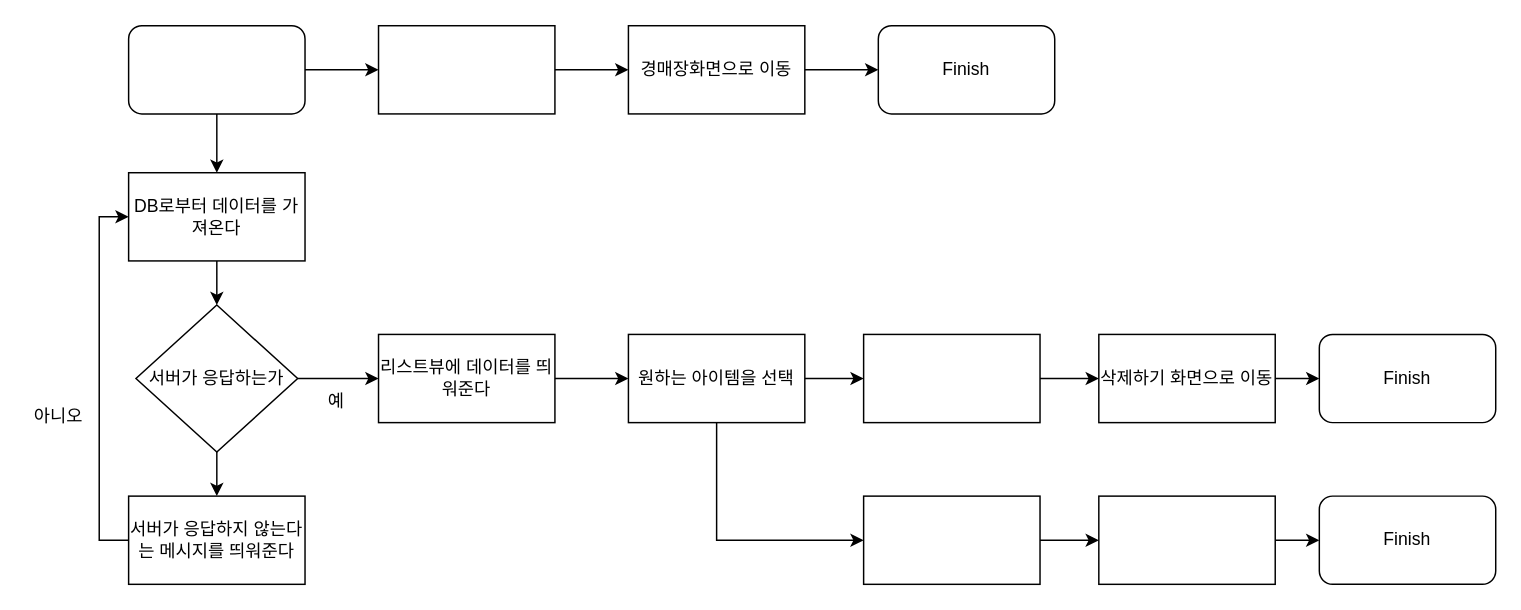
This 1521x610 diagram has some shape labels left out. The box of each missing label's shape, as (x1, y1, x2, y2) in pixels:
start: (127, 24, 305, 114)
뒤로가기 버튼을 누름: (377, 24, 555, 114)
삭제하기 버튼 터치: (862, 333, 1040, 423)
수정하기 버튼 터치: (862, 495, 1040, 584)
수정하기 화면으로 이동: (1097, 495, 1275, 584)
